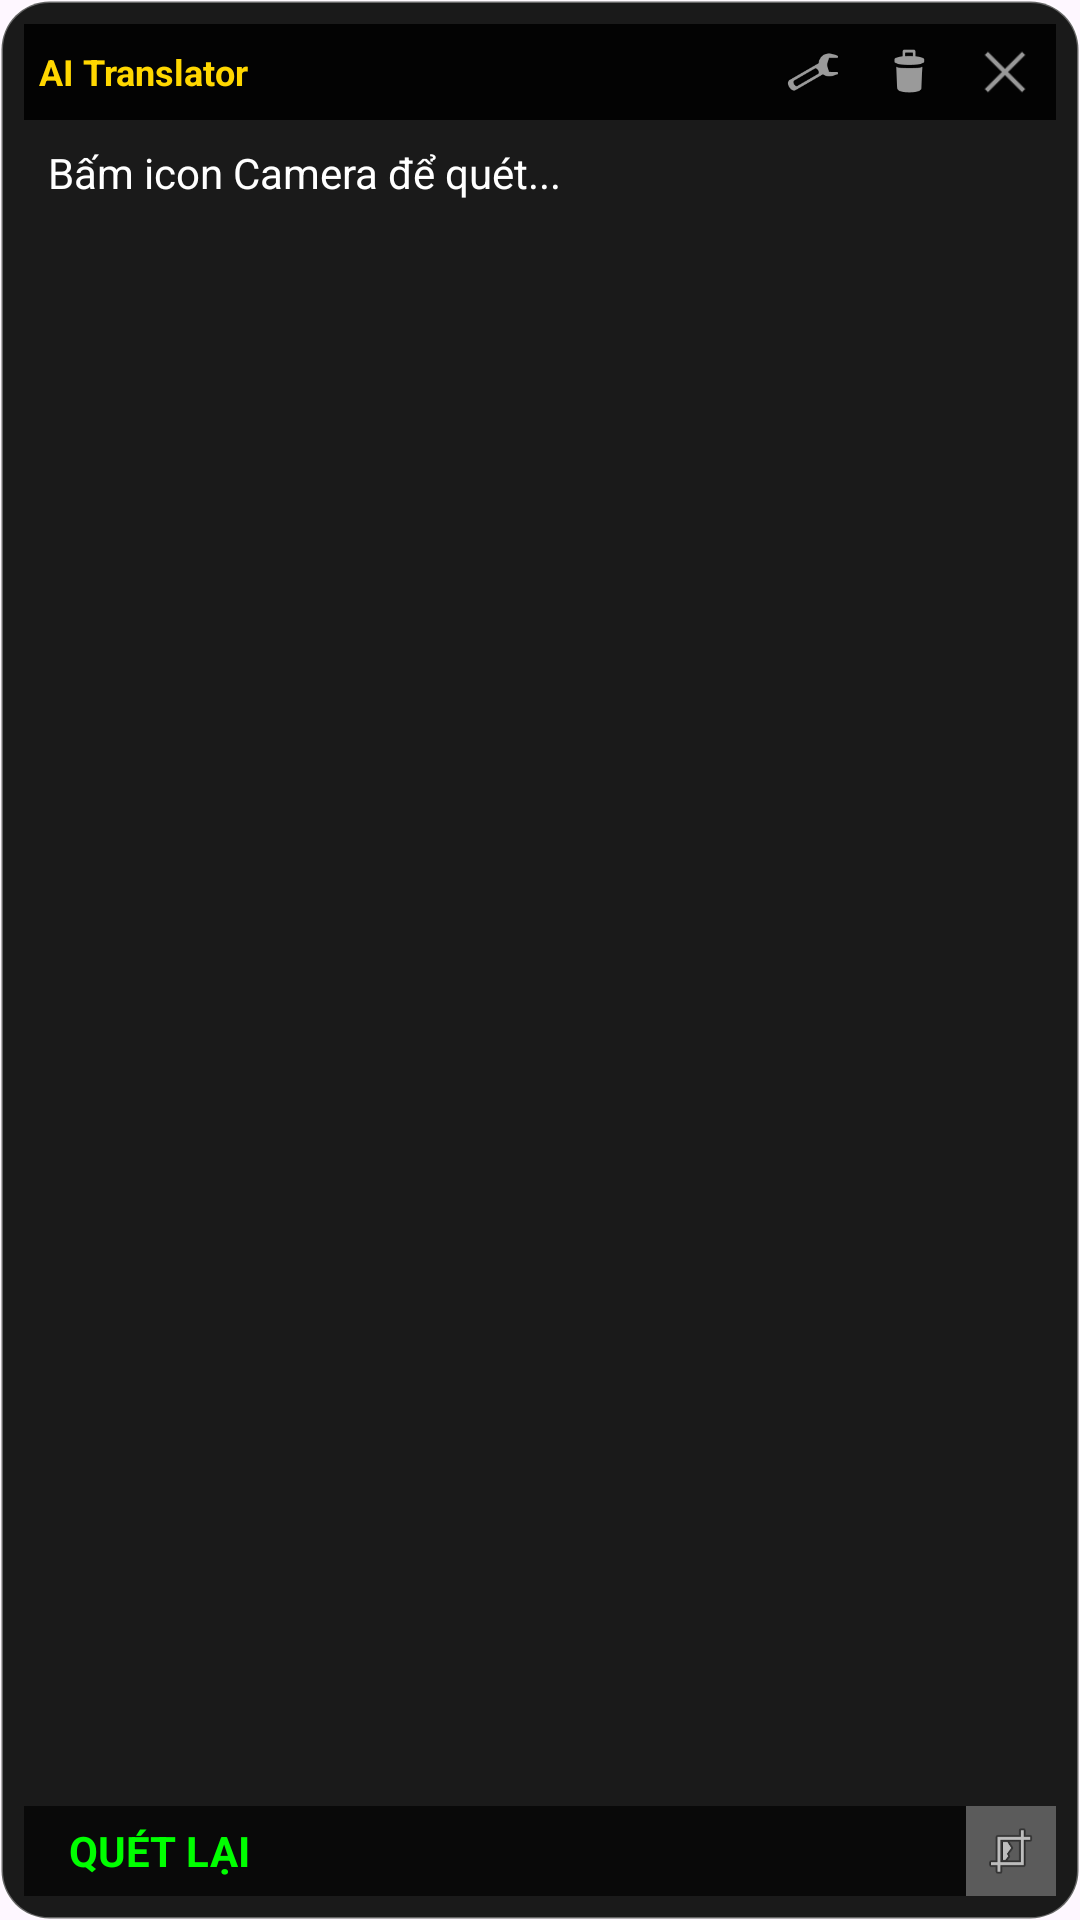

Locate icon controls on the screen. Image size 1080 × 1920, boxes as (x1, y1, x2, y2).
close clear cancel: (985, 52, 1025, 92)
delete: (894, 49, 925, 93)
preferences: (788, 53, 838, 91)
